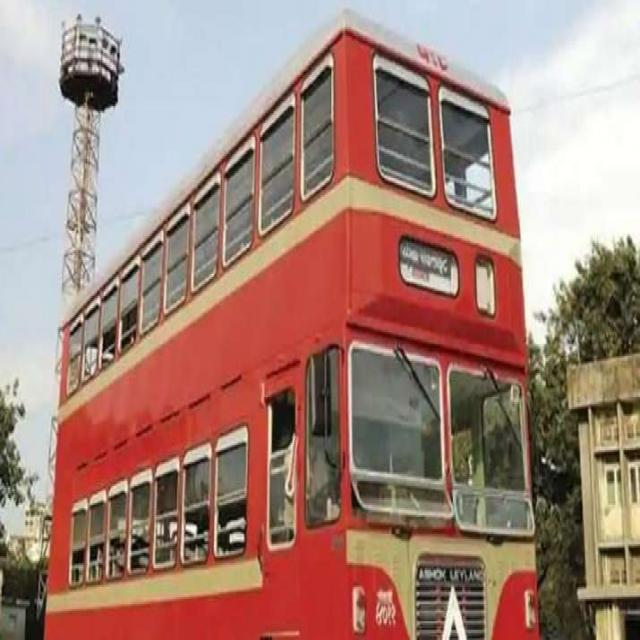BUS: (38, 33, 560, 632)
